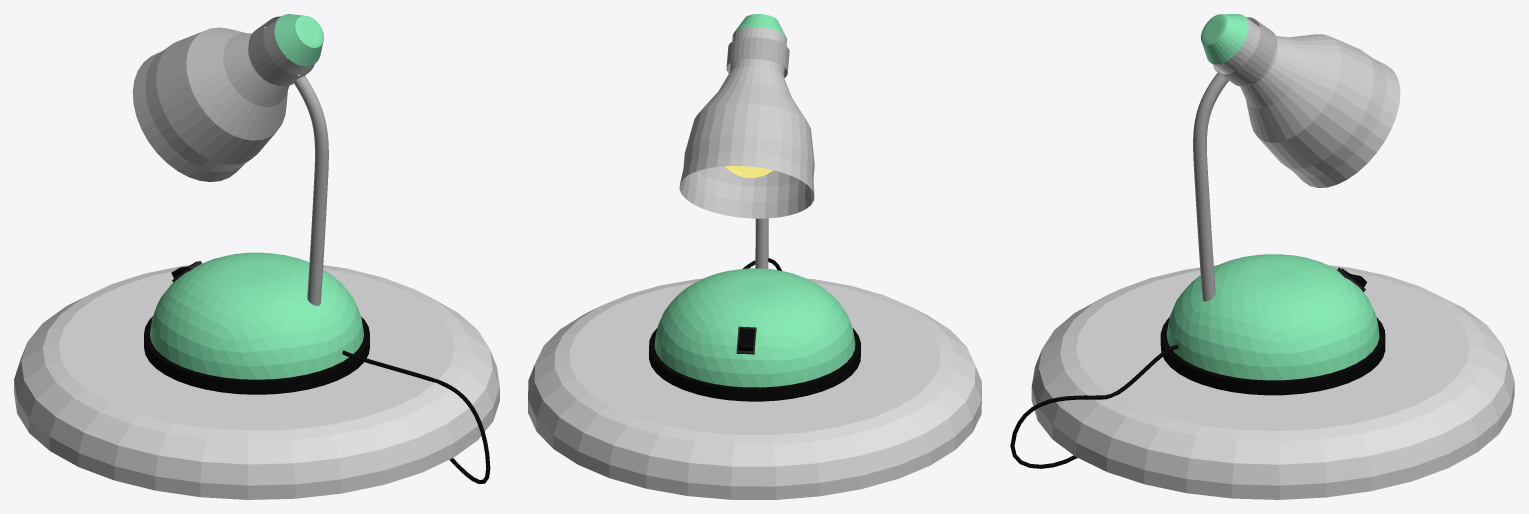
The model's file is lamp.glb.
The picture shows the model from 3 angles, left to right: view 1: azimuth 30°, elevation 25°; view 2: azimuth 150°, elevation 25°; view 3: azimuth 270°, elevation 25°; orthographic projection. The views are drawn at different scales.
Visible parts, largest first — view 1: Pedistal, Lamp body, Lamp head, Lamp base, Lamp head pipe, Lamp head holder, Cable; view 2: Pedistal, Lamp body, Lamp head, Lamp base, Lamp head holder, Lamp head pipe; view 3: Pedistal, Lamp body, Lamp head, Lamp base, Lamp head pipe, Lamp head holder, Cable.
Boxes of the visible parts, left/top/right/bottom form: Pedistal: left=14, top=265, right=499, bottom=499; Lamp body: left=150, top=252, right=363, bottom=379; Lamp head: left=132, top=14, right=323, bottom=181; Lamp base: left=144, top=316, right=369, bottom=394; Lamp head pipe: left=293, top=76, right=328, bottom=305; Lamp head holder: left=248, top=16, right=314, bottom=86; Cable: left=342, top=350, right=490, bottom=483; Pedistal: left=528, top=278, right=981, bottom=499; Lamp body: left=654, top=268, right=855, bottom=387; Lamp head: left=679, top=14, right=814, bottom=218; Lamp base: left=649, top=328, right=860, bottom=401; Lamp head holder: left=726, top=37, right=789, bottom=77; Lamp head pipe: left=755, top=218, right=768, bottom=268; Pedistal: left=1031, top=265, right=1514, bottom=499; Lamp body: left=1166, top=254, right=1379, bottom=380; Lamp head: left=1201, top=14, right=1400, bottom=187; Lamp base: left=1160, top=317, right=1385, bottom=395; Lamp head pipe: left=1193, top=71, right=1228, bottom=301; Lamp head holder: left=1212, top=17, right=1277, bottom=86; Cable: left=1010, top=344, right=1178, bottom=468.
Size of the model in its own units: 6.95 by 6.57 by 7.25.
